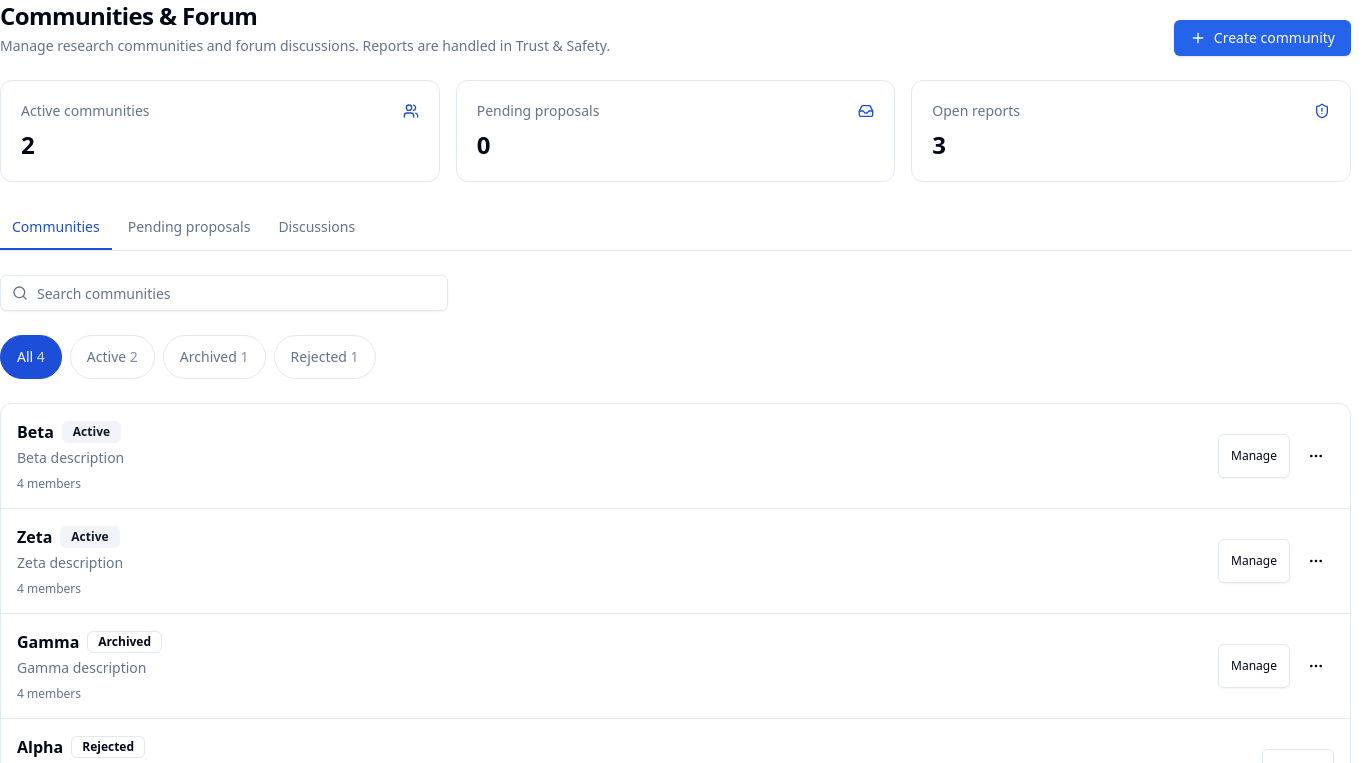
archive dialog › explains that archiving freezes the community and closes pending requests
Press Enter in the button named "More actions" in the row of "Beta description", box [1298,438,1334,474]
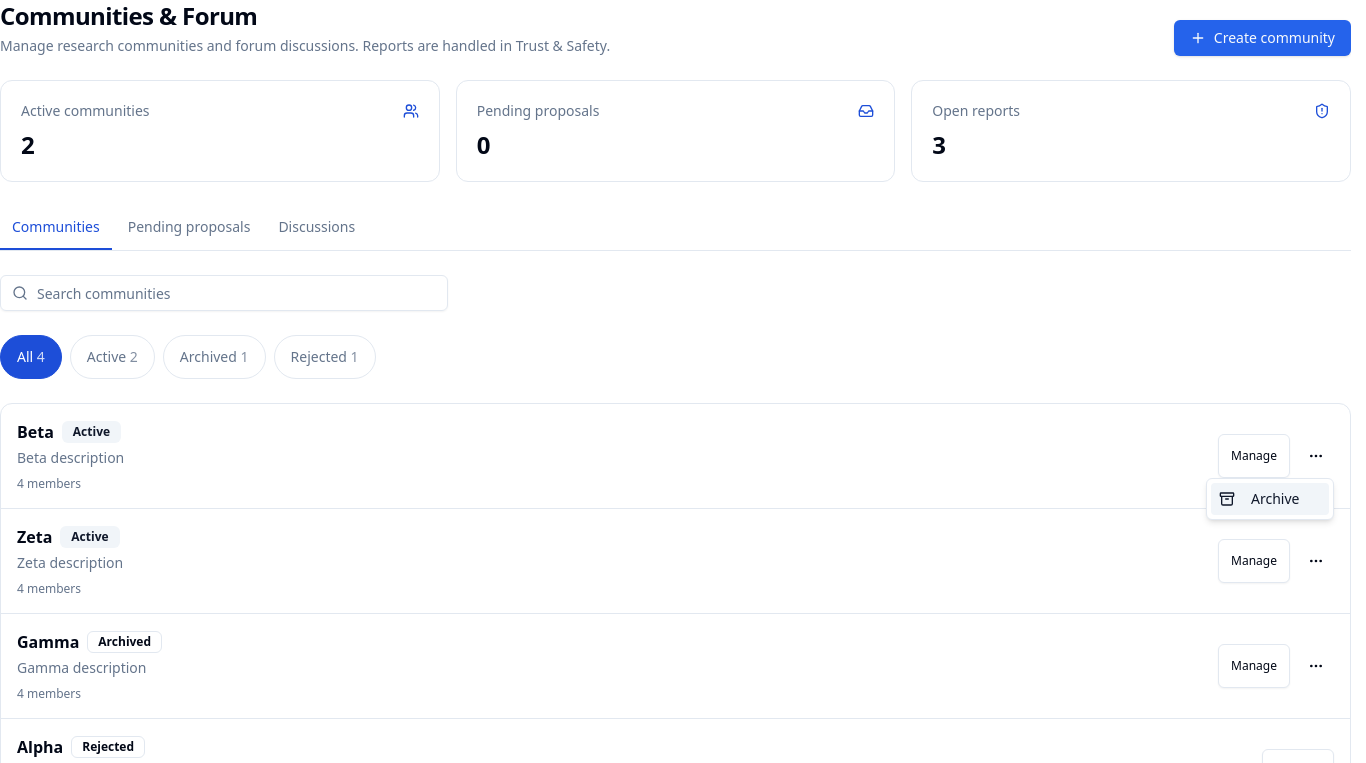
Click the menu item "Archive" at (1270,499), box [1211,483,1329,515]
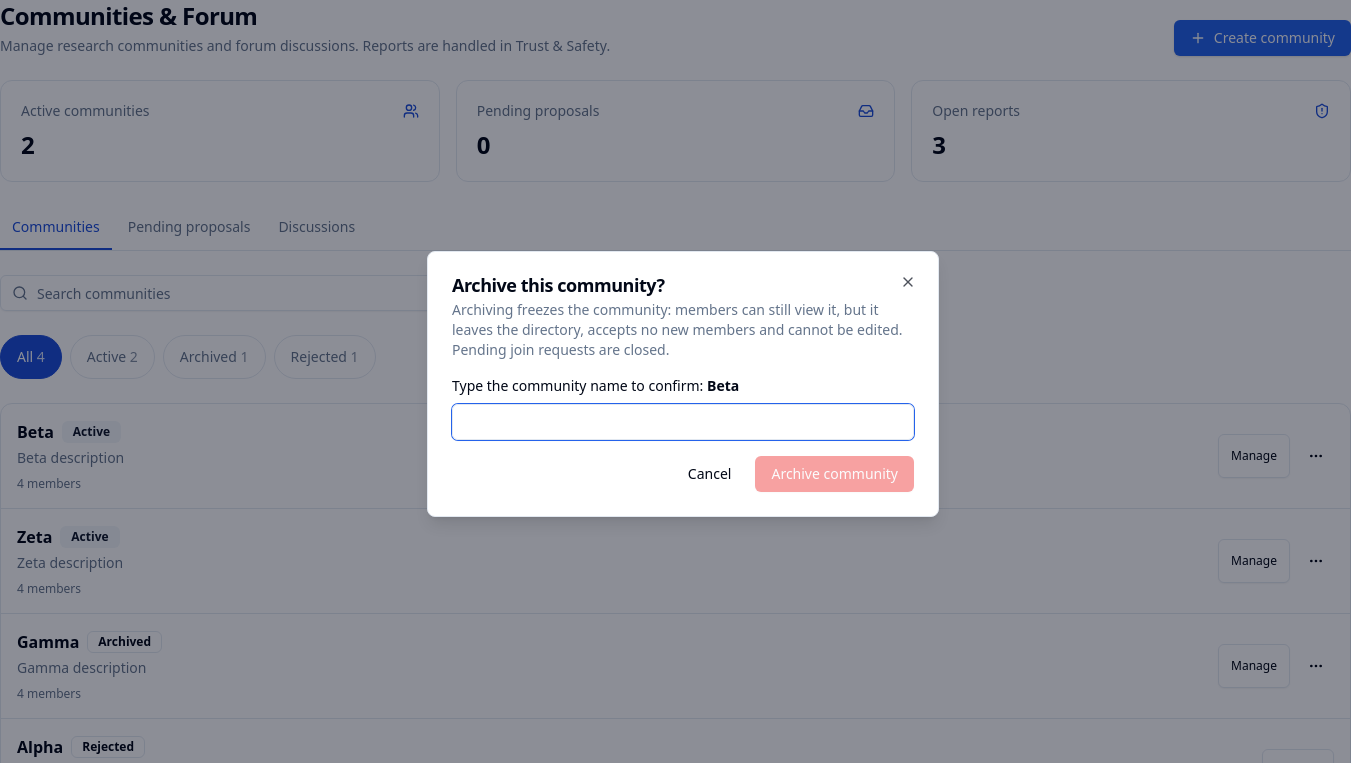
Check: the dialog shows "Archiving freezes the community: members can still view it, but it leaves the directory, accepts no new members and cannot be edited. Pending join requests are", box [452,300,902,359]
